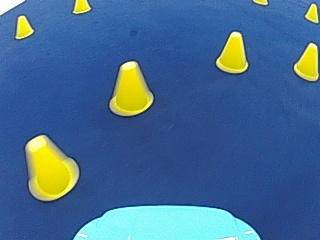cone: (23, 134, 77, 200), (109, 60, 154, 116), (215, 29, 248, 73), (293, 41, 319, 80), (14, 14, 33, 38), (304, 2, 319, 22), (72, 0, 90, 13)
